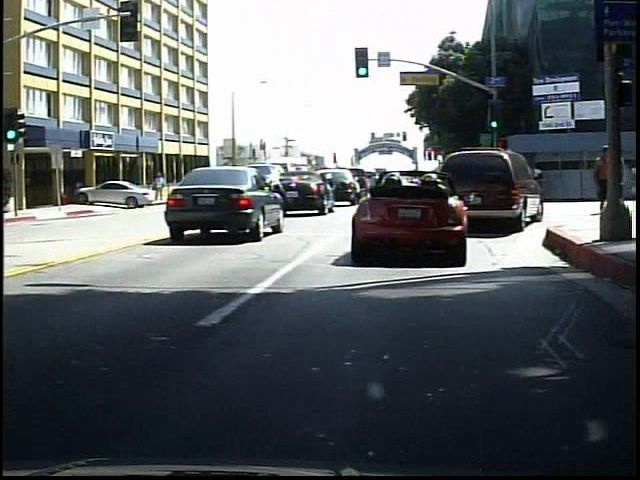person: (582, 143, 609, 223), (145, 171, 164, 205), (627, 161, 637, 217)
